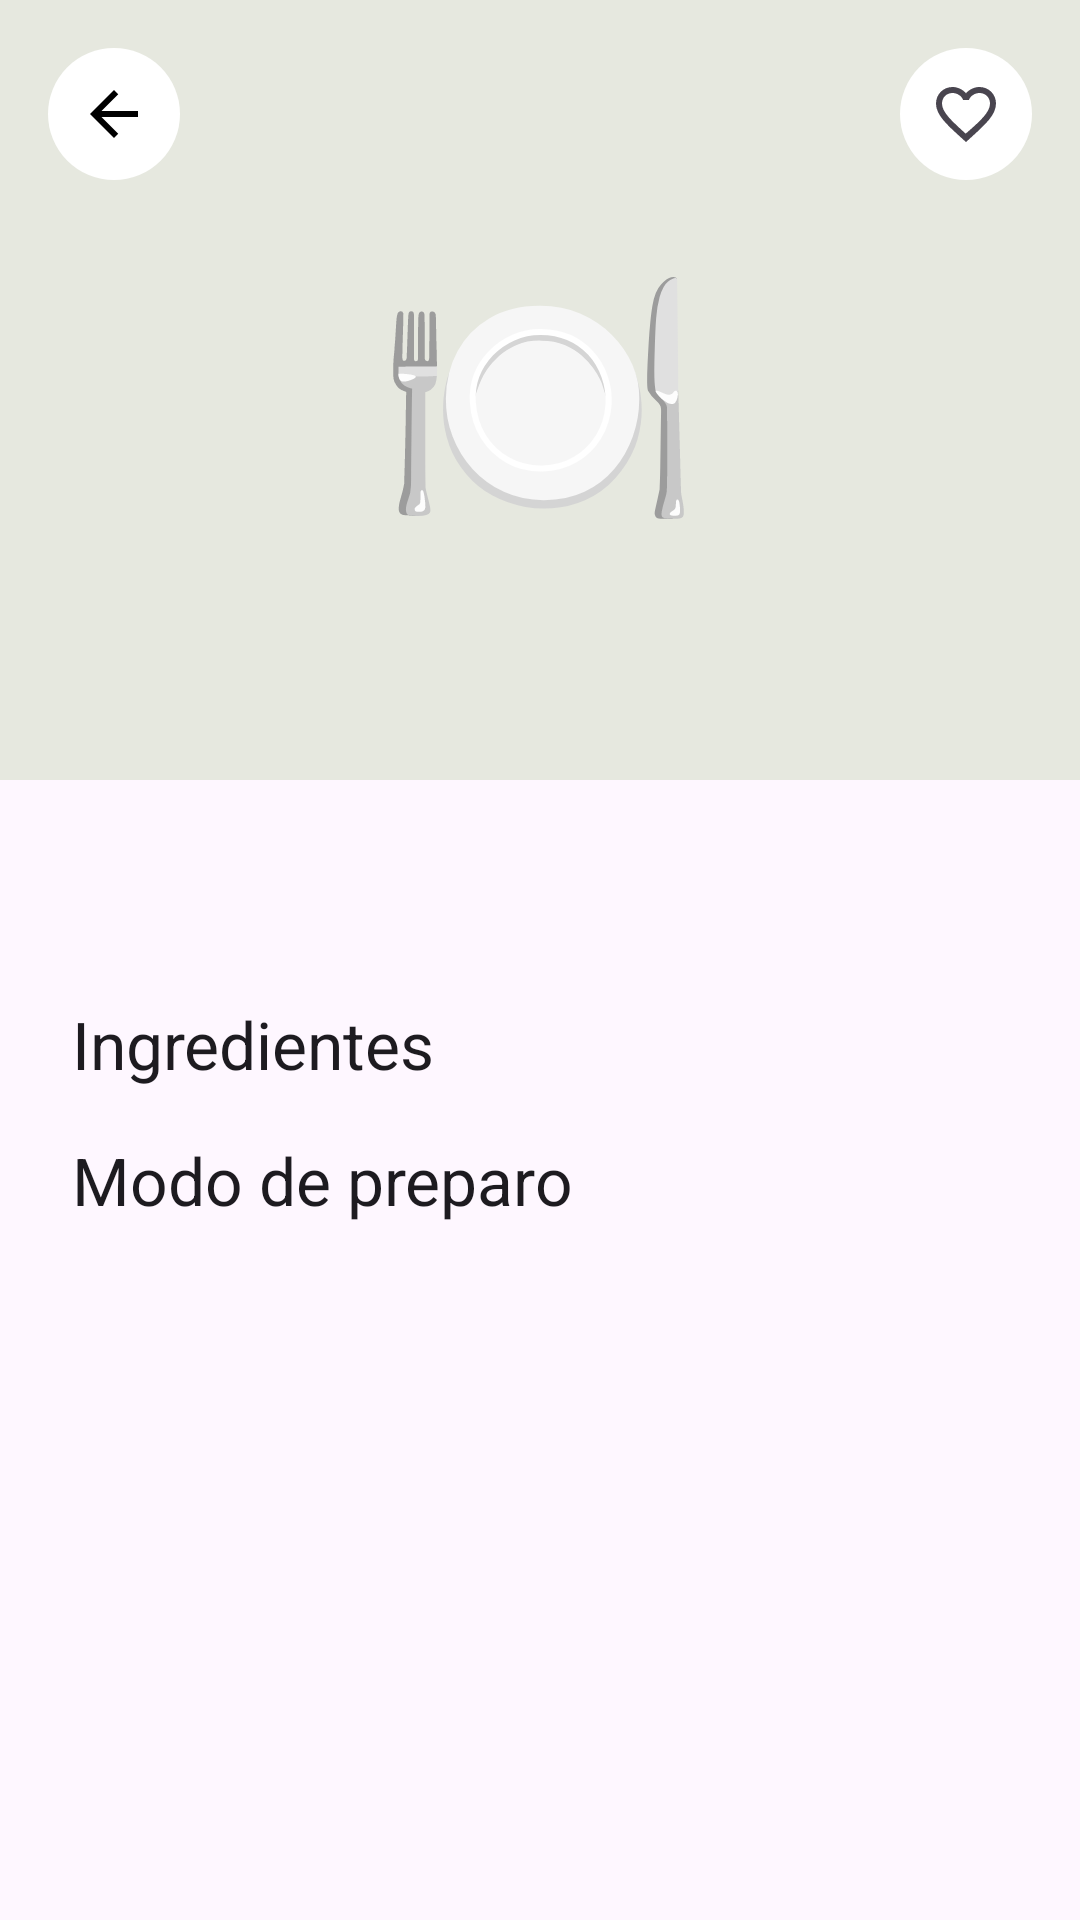

Named icons in this screenshot (1080x1920) and their bounding boxes, (x1, y1, x2, y2):
Adicionar aos favoritos: (900, 48, 1032, 180)
Voltar: (48, 48, 180, 180)
